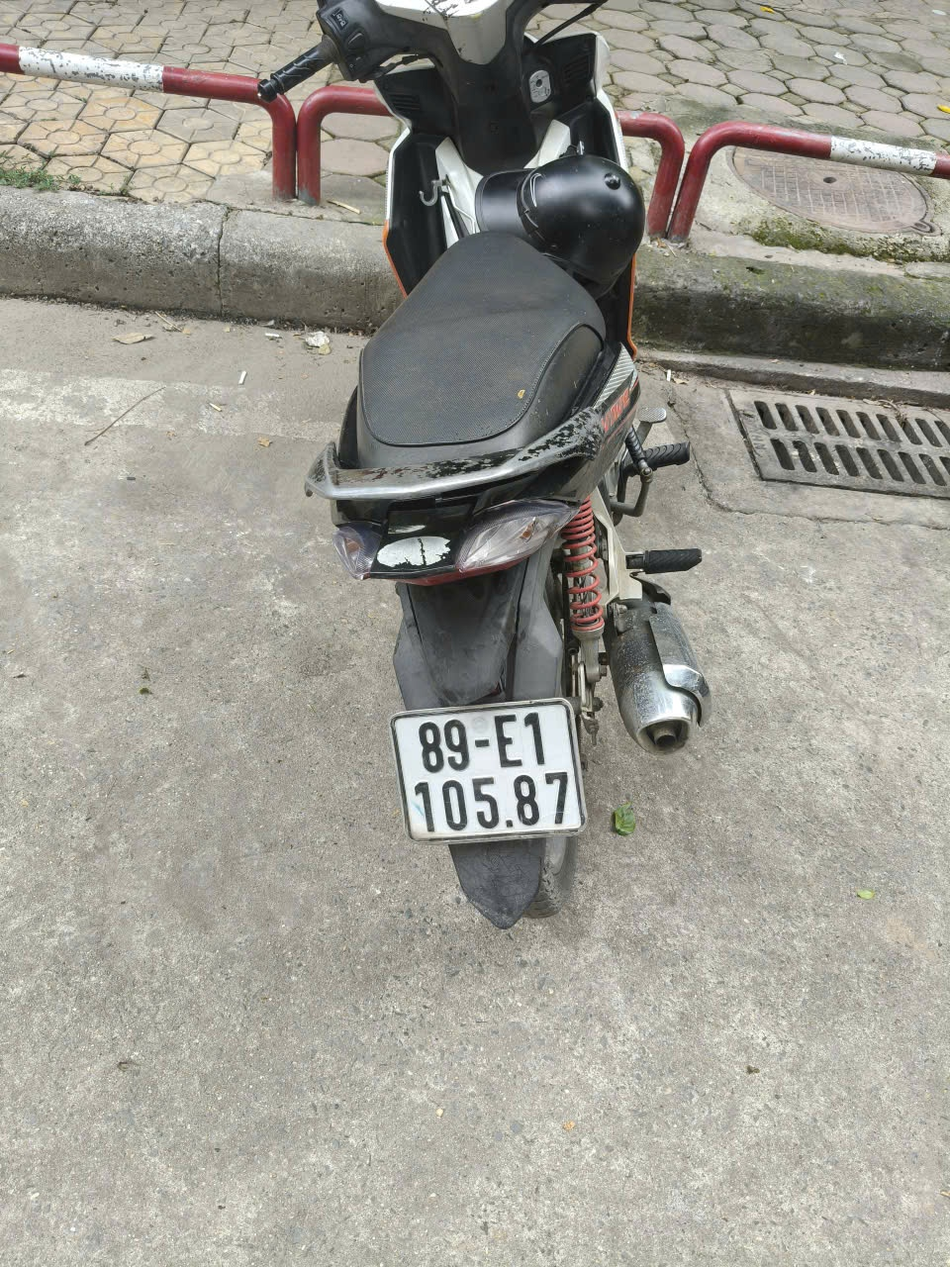plate: (620, 91, 731, 132)
